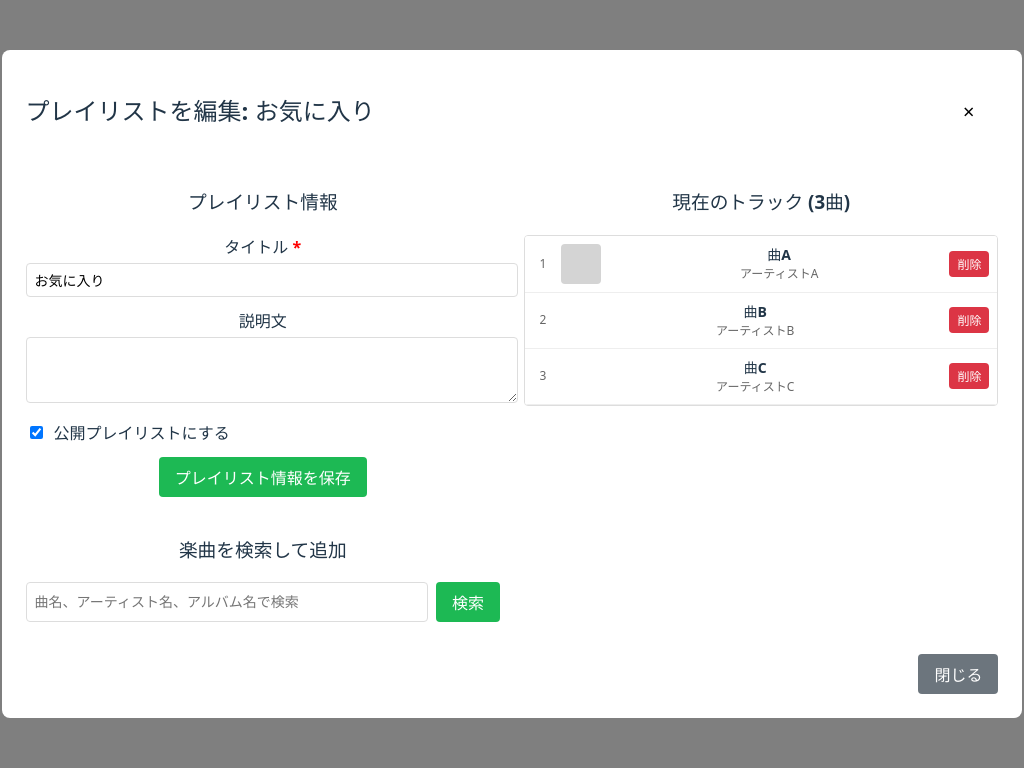
Test: EditPlaylistModal › 表示・読み込み › 「×」ボタンで閉じると、検索語と検索結果をクリアする
expect the heading "現在のトラック (3曲)" is shown: met, box [672, 189, 850, 214]
Type "追加したい曲" into the field with placeholder "曲名、アーティスト名、アルバム名で検索" at [227, 602], box [26, 582, 428, 622]
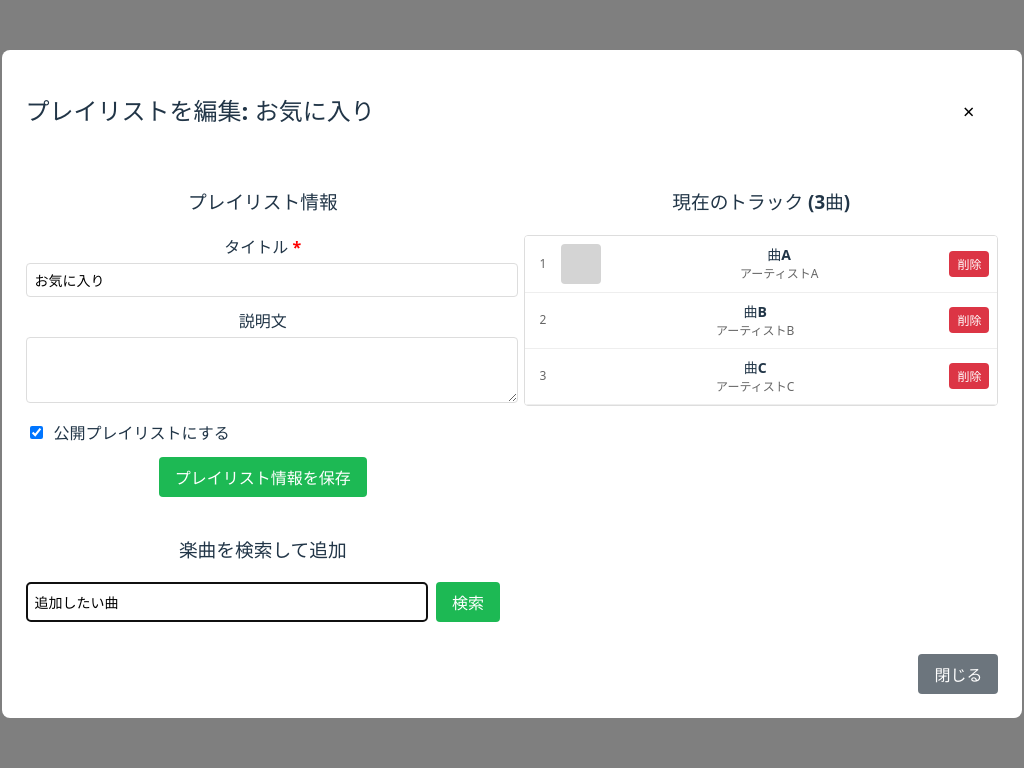
Click the button "検索" at [468, 602], box [436, 582, 500, 622]
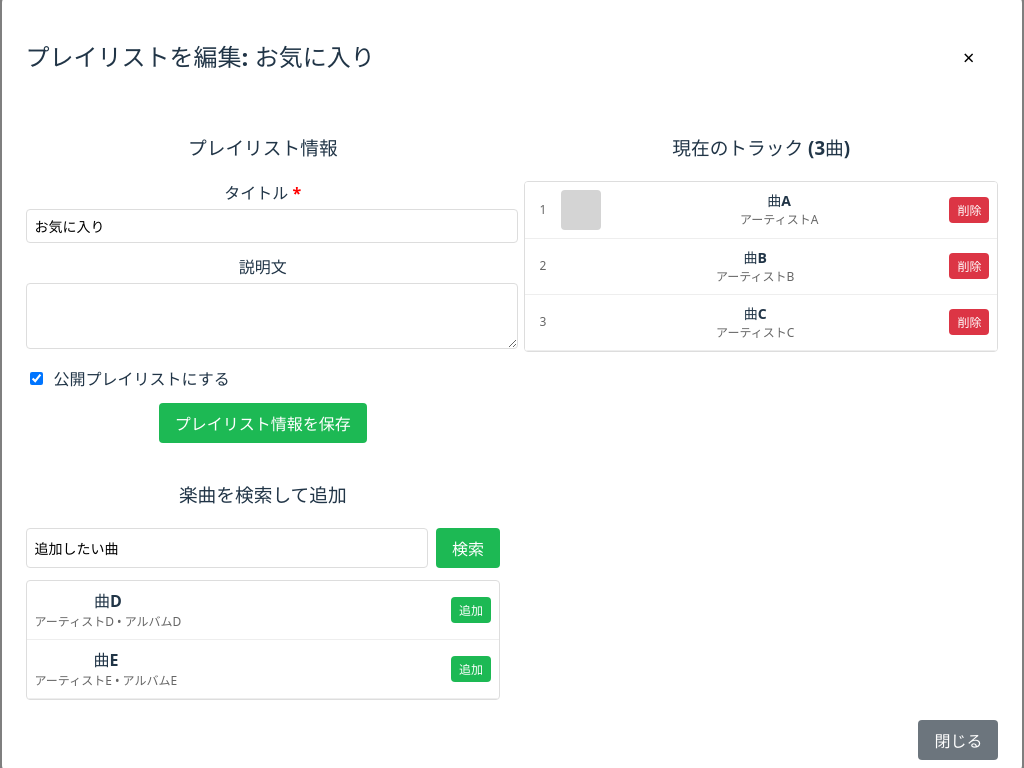
expect the button "検索" is shown: met, box [436, 528, 500, 568]
Click the button "×" at [969, 57], box [939, 32, 998, 83]
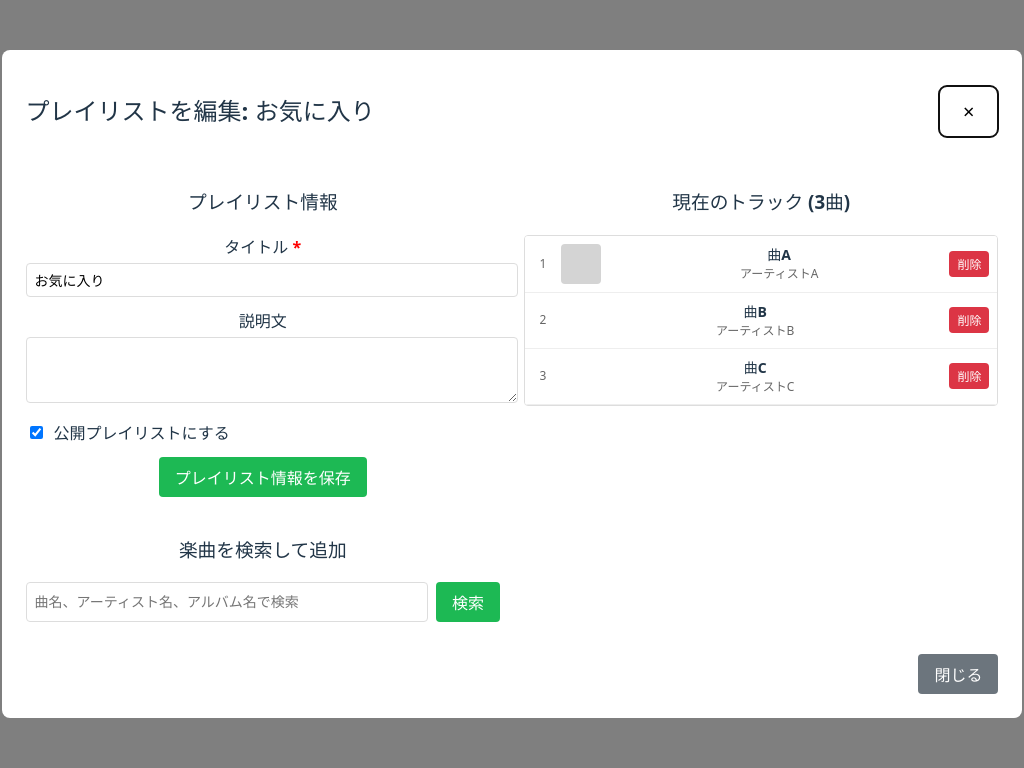
expect the field with placeholder "曲名、アーティスト名、アルバム名で検索" is empty: met, box [26, 582, 428, 622]
expect the text "曲D" is gone: met
